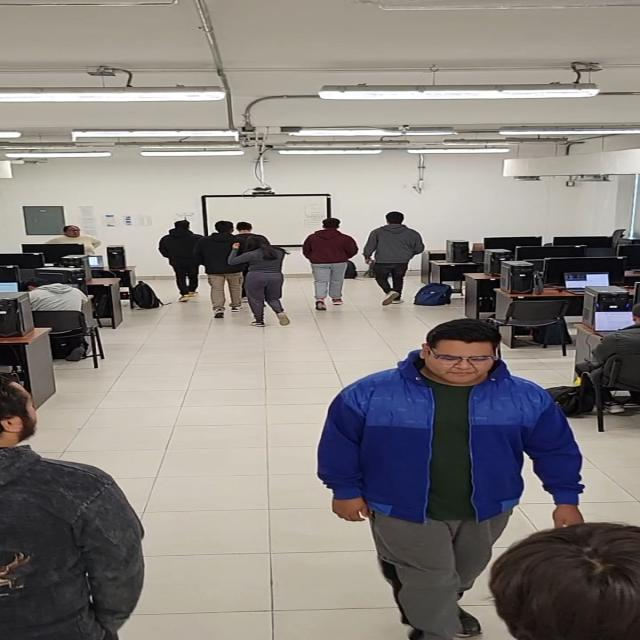Persona: (315, 318, 586, 640), (0, 370, 145, 640), (488, 523, 640, 640), (362, 211, 426, 306), (226, 235, 291, 328), (302, 218, 359, 311), (194, 220, 247, 319), (158, 220, 205, 302), (234, 220, 258, 240)
